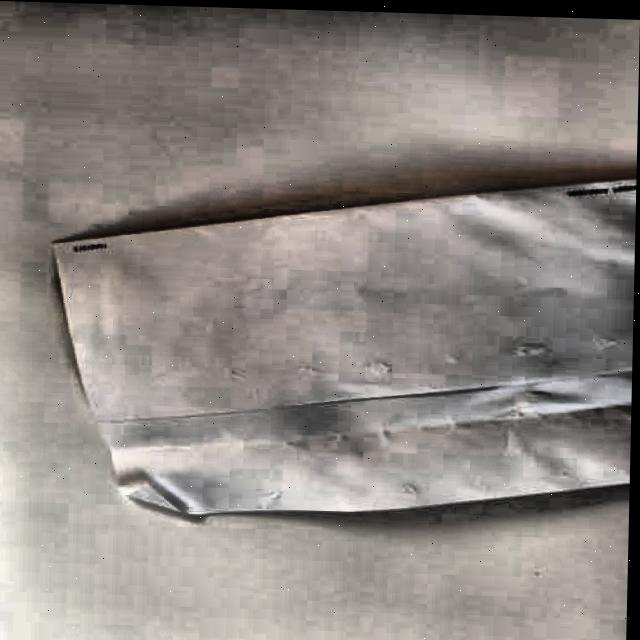paper: (42, 156, 637, 535)
